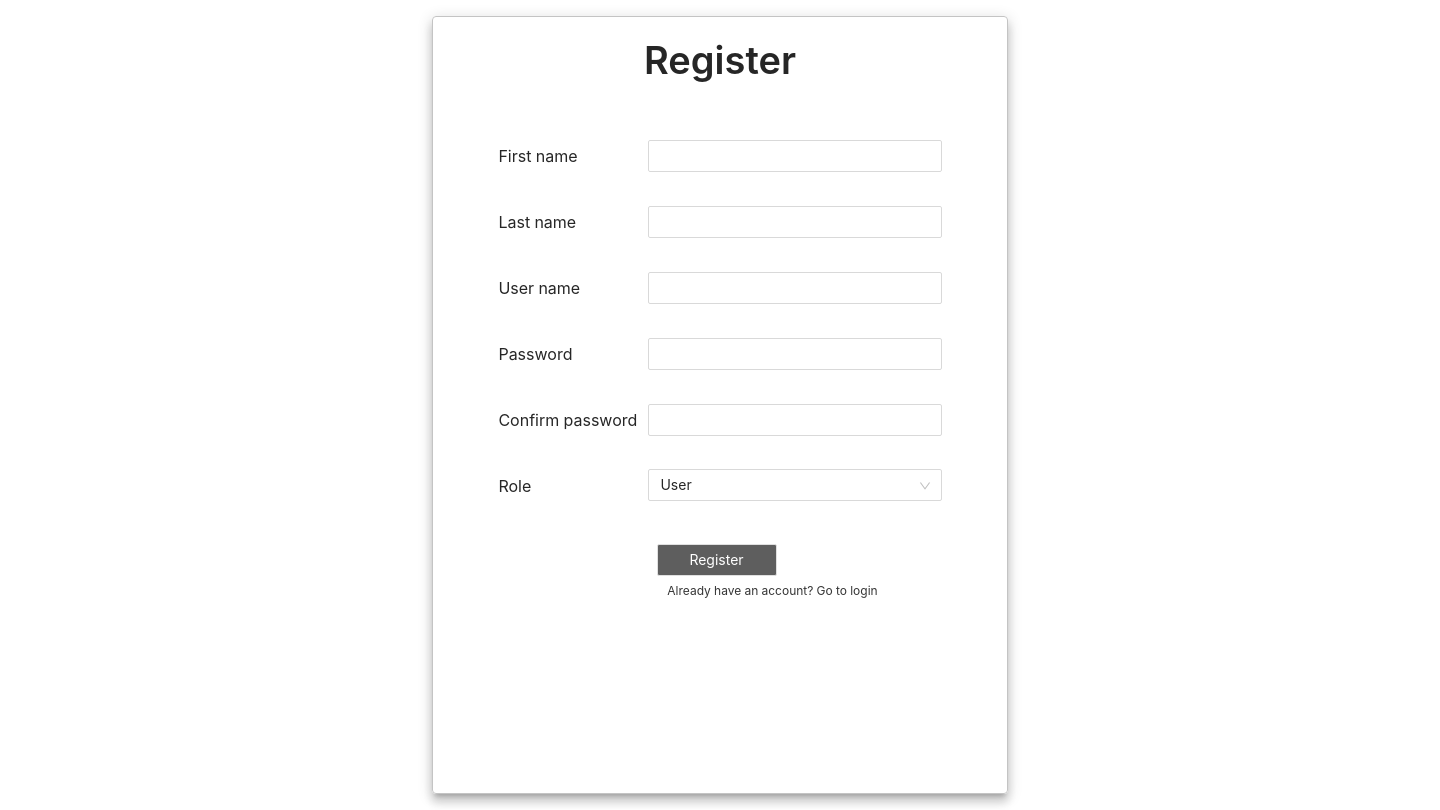
Test case: render of alert › when user already exist › alert should render
The width and height of the screenshot is (1440, 810).
Type "Ankit" into the field with test id "first-name" at [795, 156], box x1=648 y1=140 x2=942 y2=172
Type "Kumar" into the field with test id "last-name" at [795, 222], box x1=648 y1=206 x2=942 y2=238
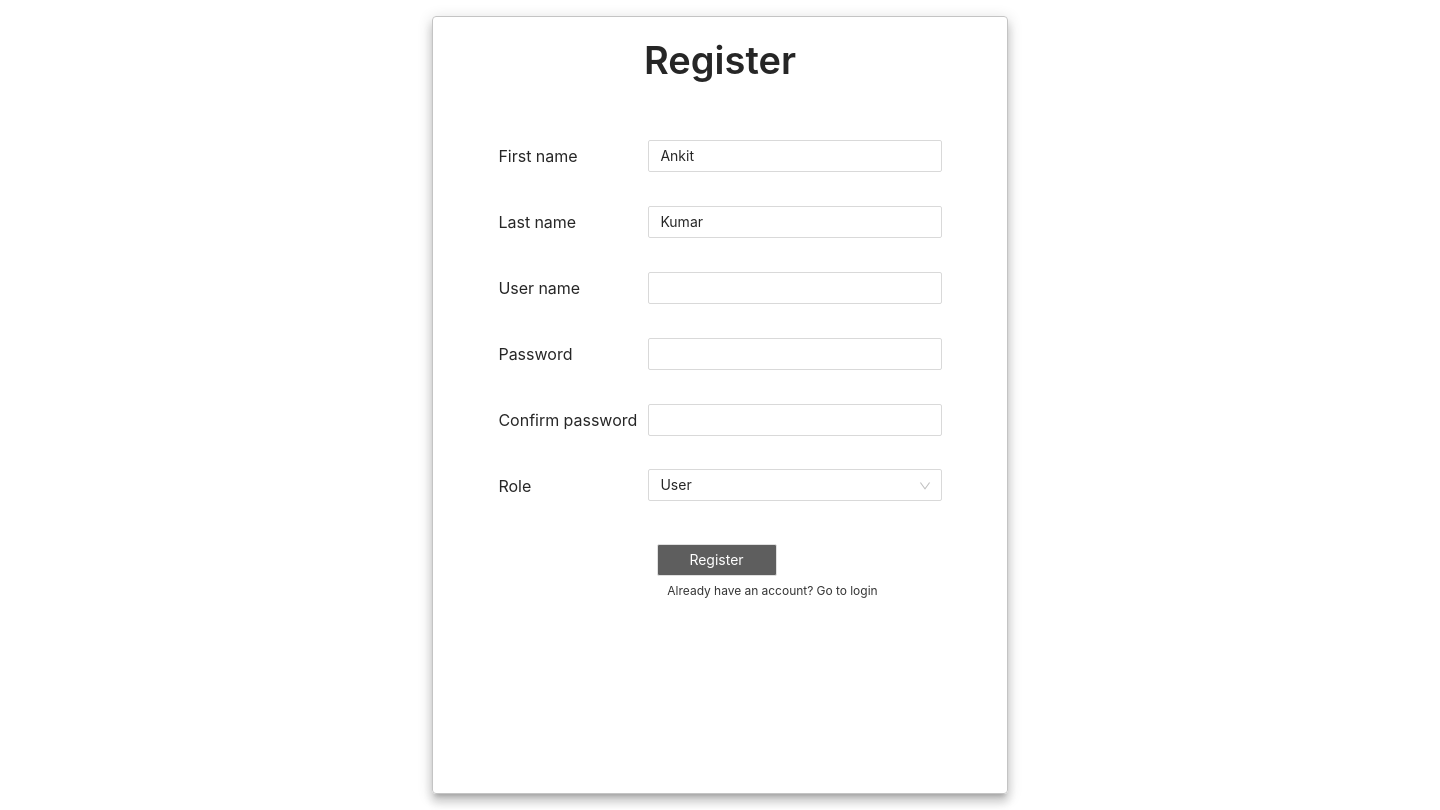
Type "ankit" into the field with test id "user-name" at [795, 288], box x1=648 y1=272 x2=942 y2=304
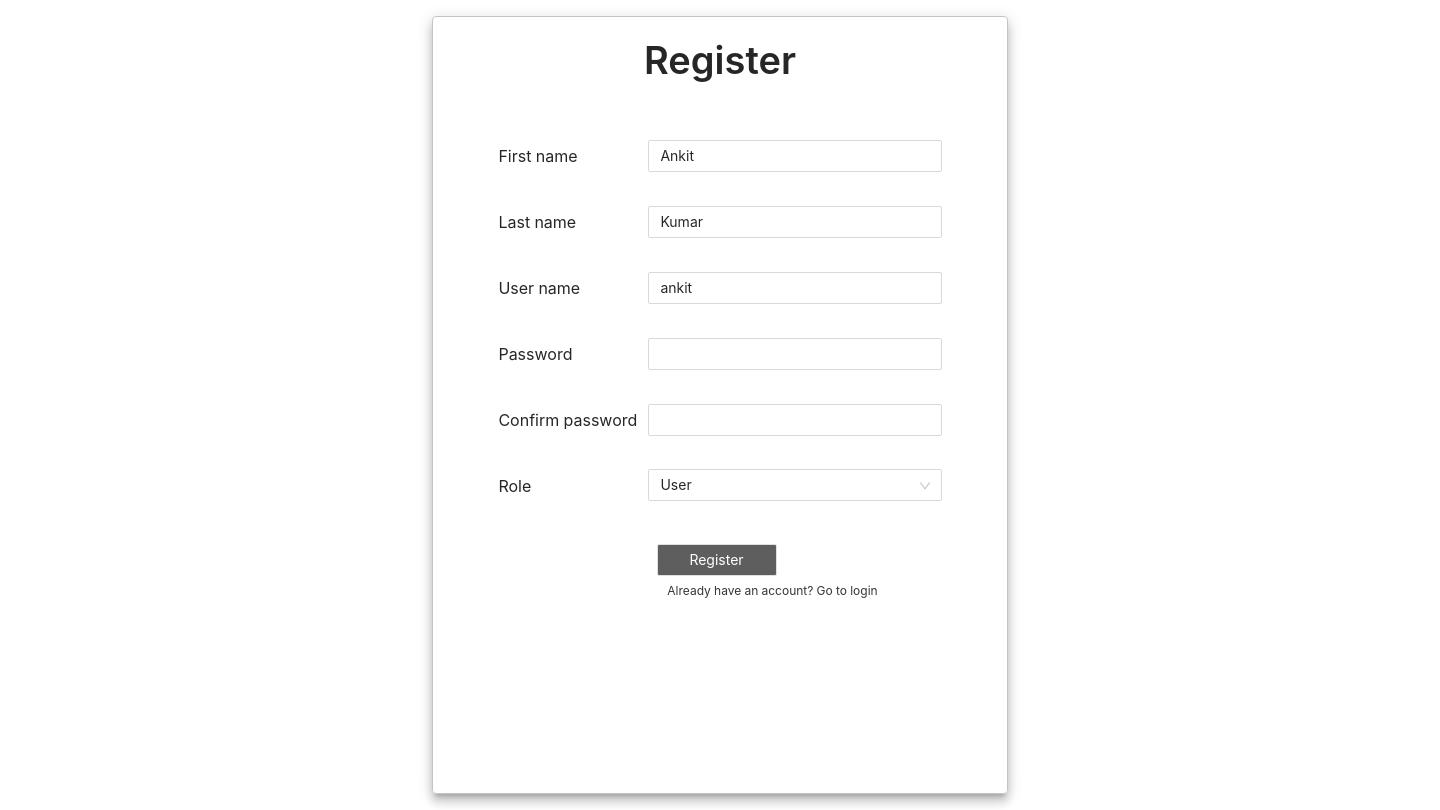
Type "welcome@123" into the password field with test id "password" at [795, 354], box x1=648 y1=338 x2=942 y2=370
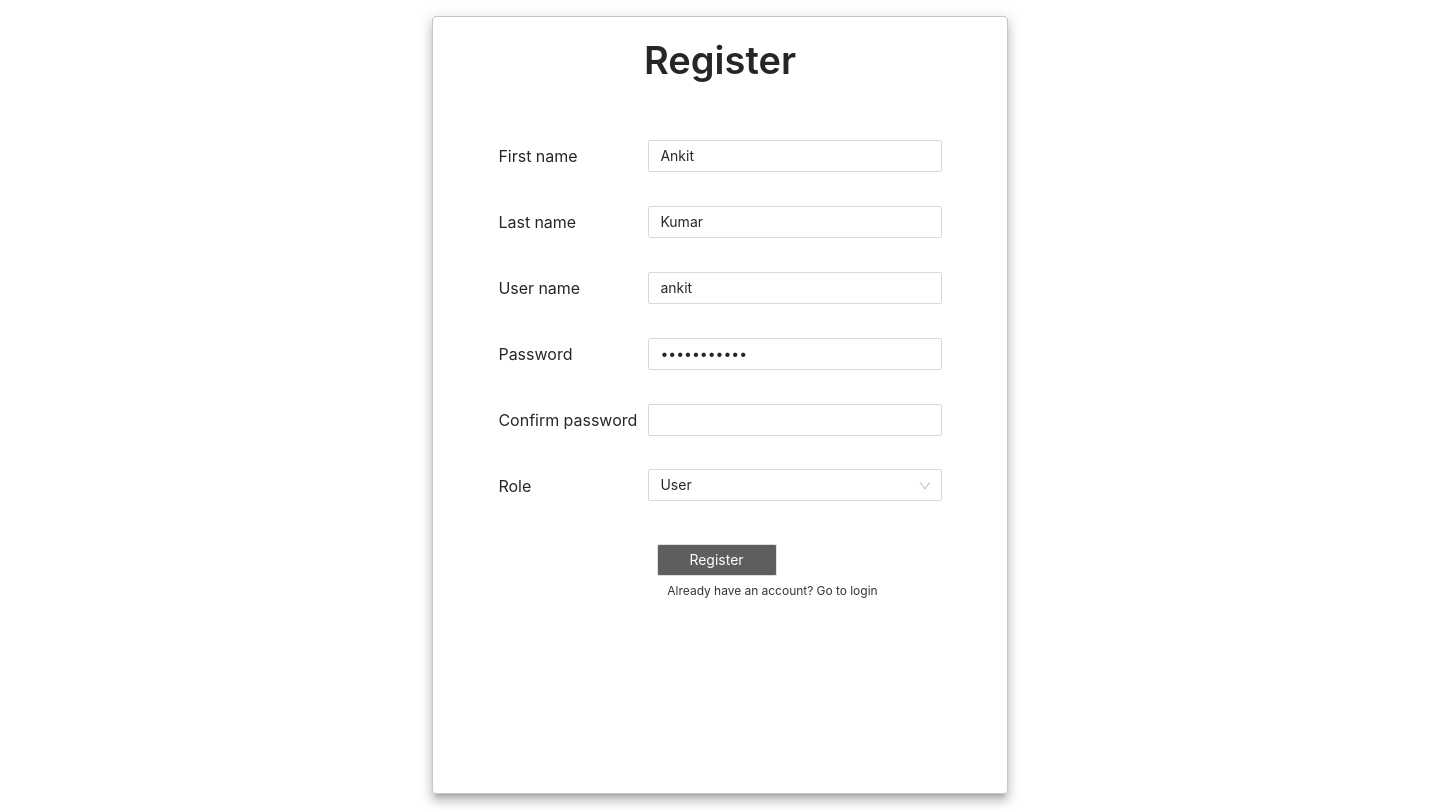
Type "welcome@123" into the password field with test id "confirm-password" at [795, 420], box x1=648 y1=404 x2=942 y2=436
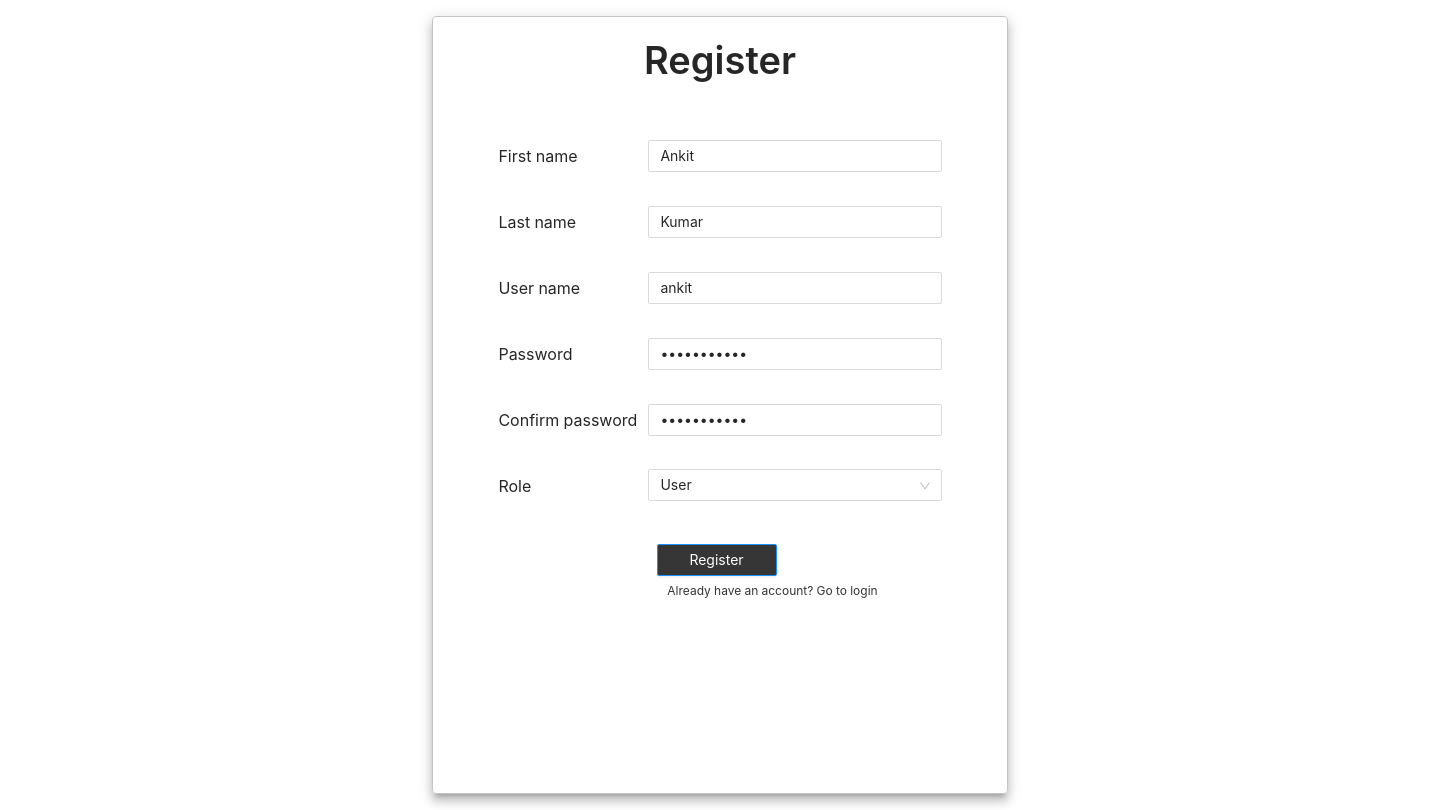
Replace the text in the dropdown labelled "User" with "user" at [795, 485], box x1=648 y1=469 x2=942 y2=501
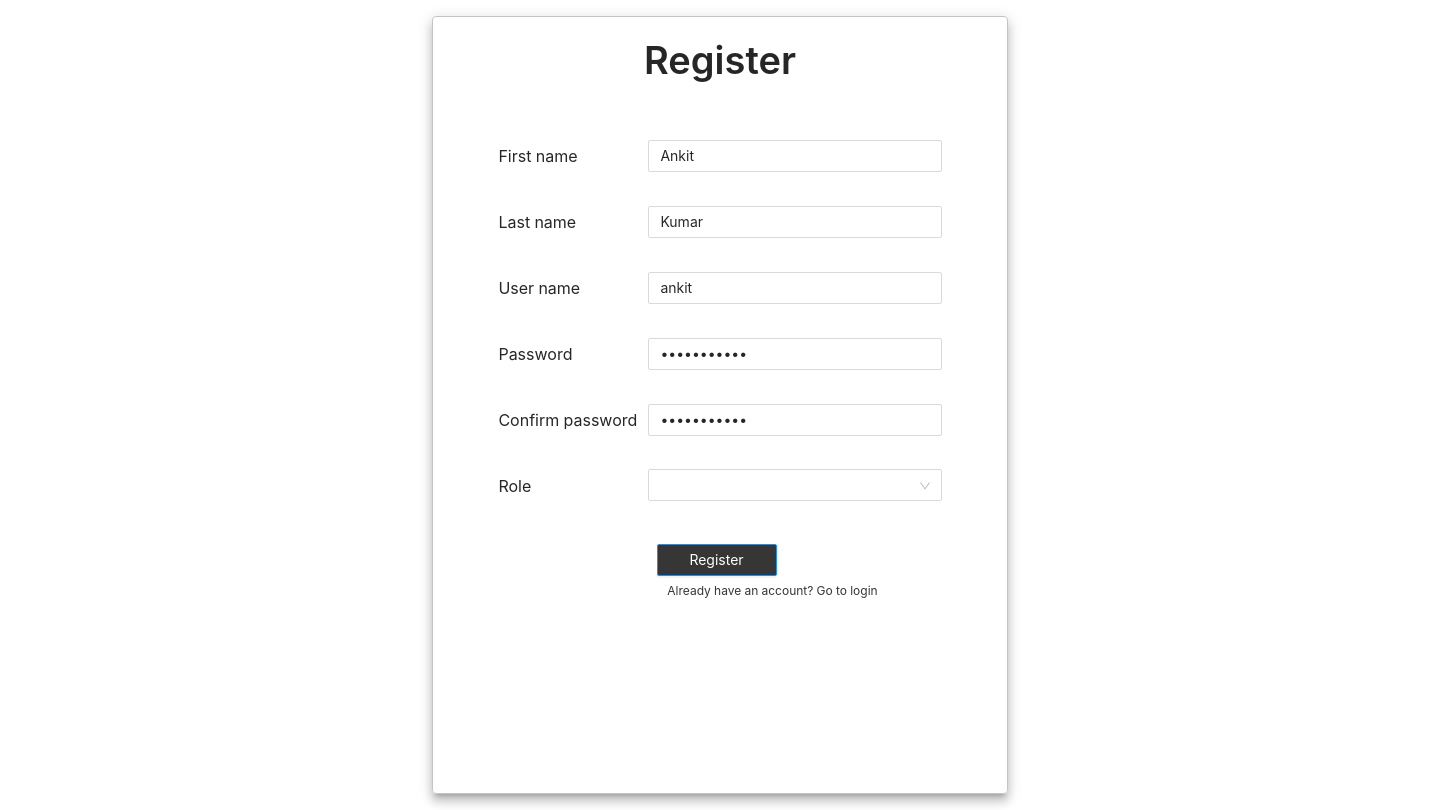
Click the button with test id "register-button" at [716, 560], box x1=656 y1=544 x2=776 y2=576
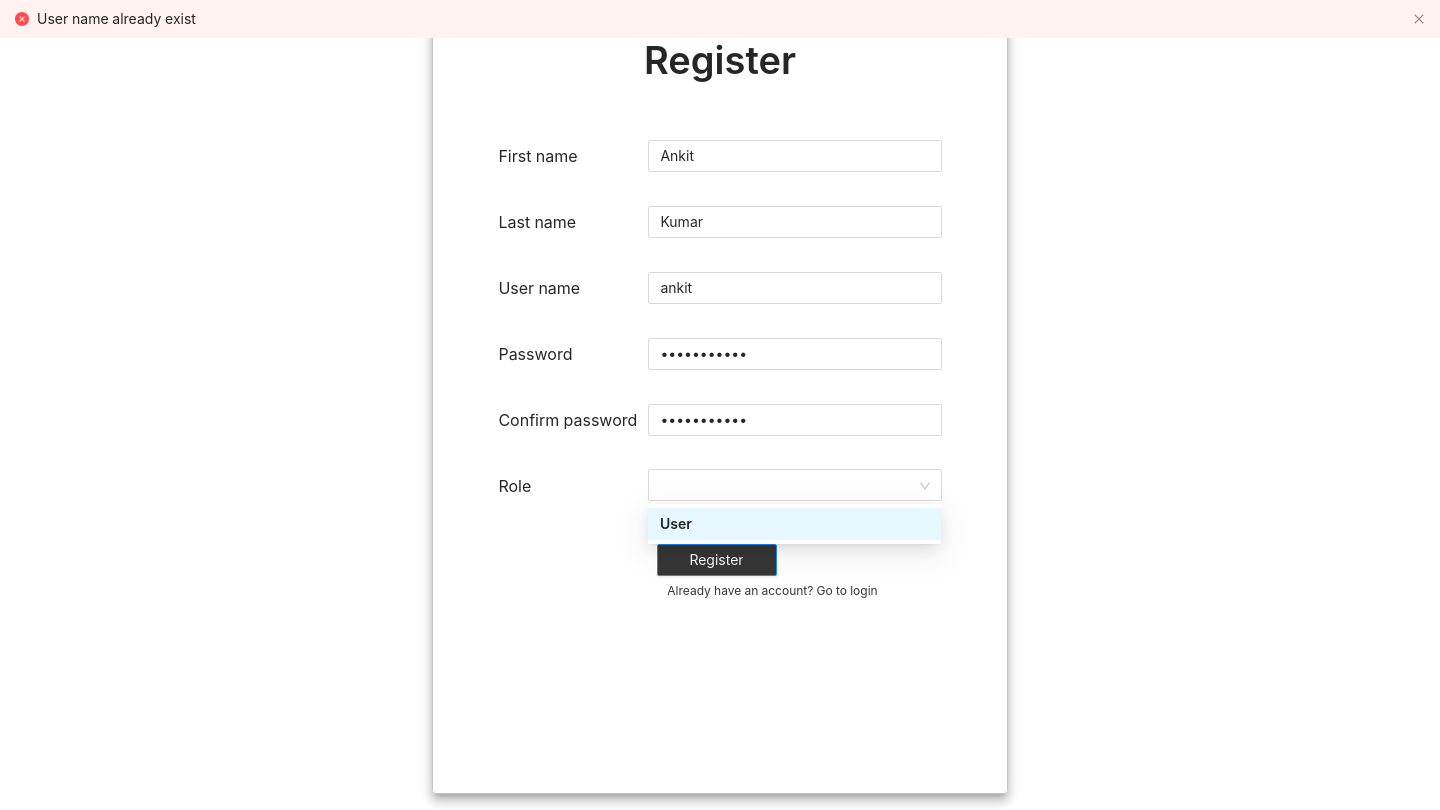
Now the message "User name already exist" is shown, box x1=0 y1=0 x2=1439 y2=38
